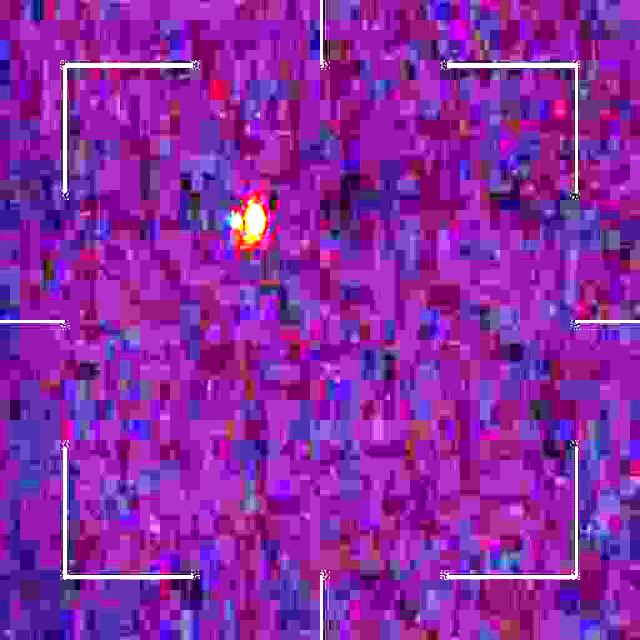bird: (229, 200, 269, 249)
